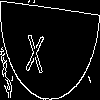X: (25, 25, 45, 73)
